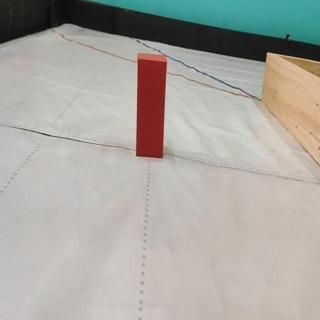redbox: (135, 51, 168, 158)
